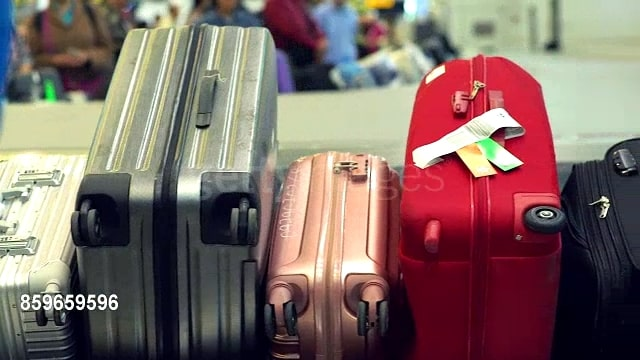baggage: (79, 23, 282, 360), (401, 53, 567, 360), (269, 151, 404, 360), (559, 137, 640, 360), (3, 145, 81, 360)
